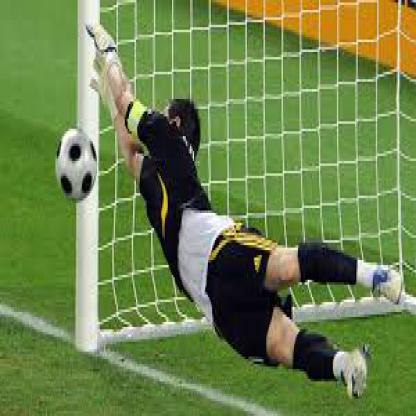goal: (44, 8, 316, 338)
